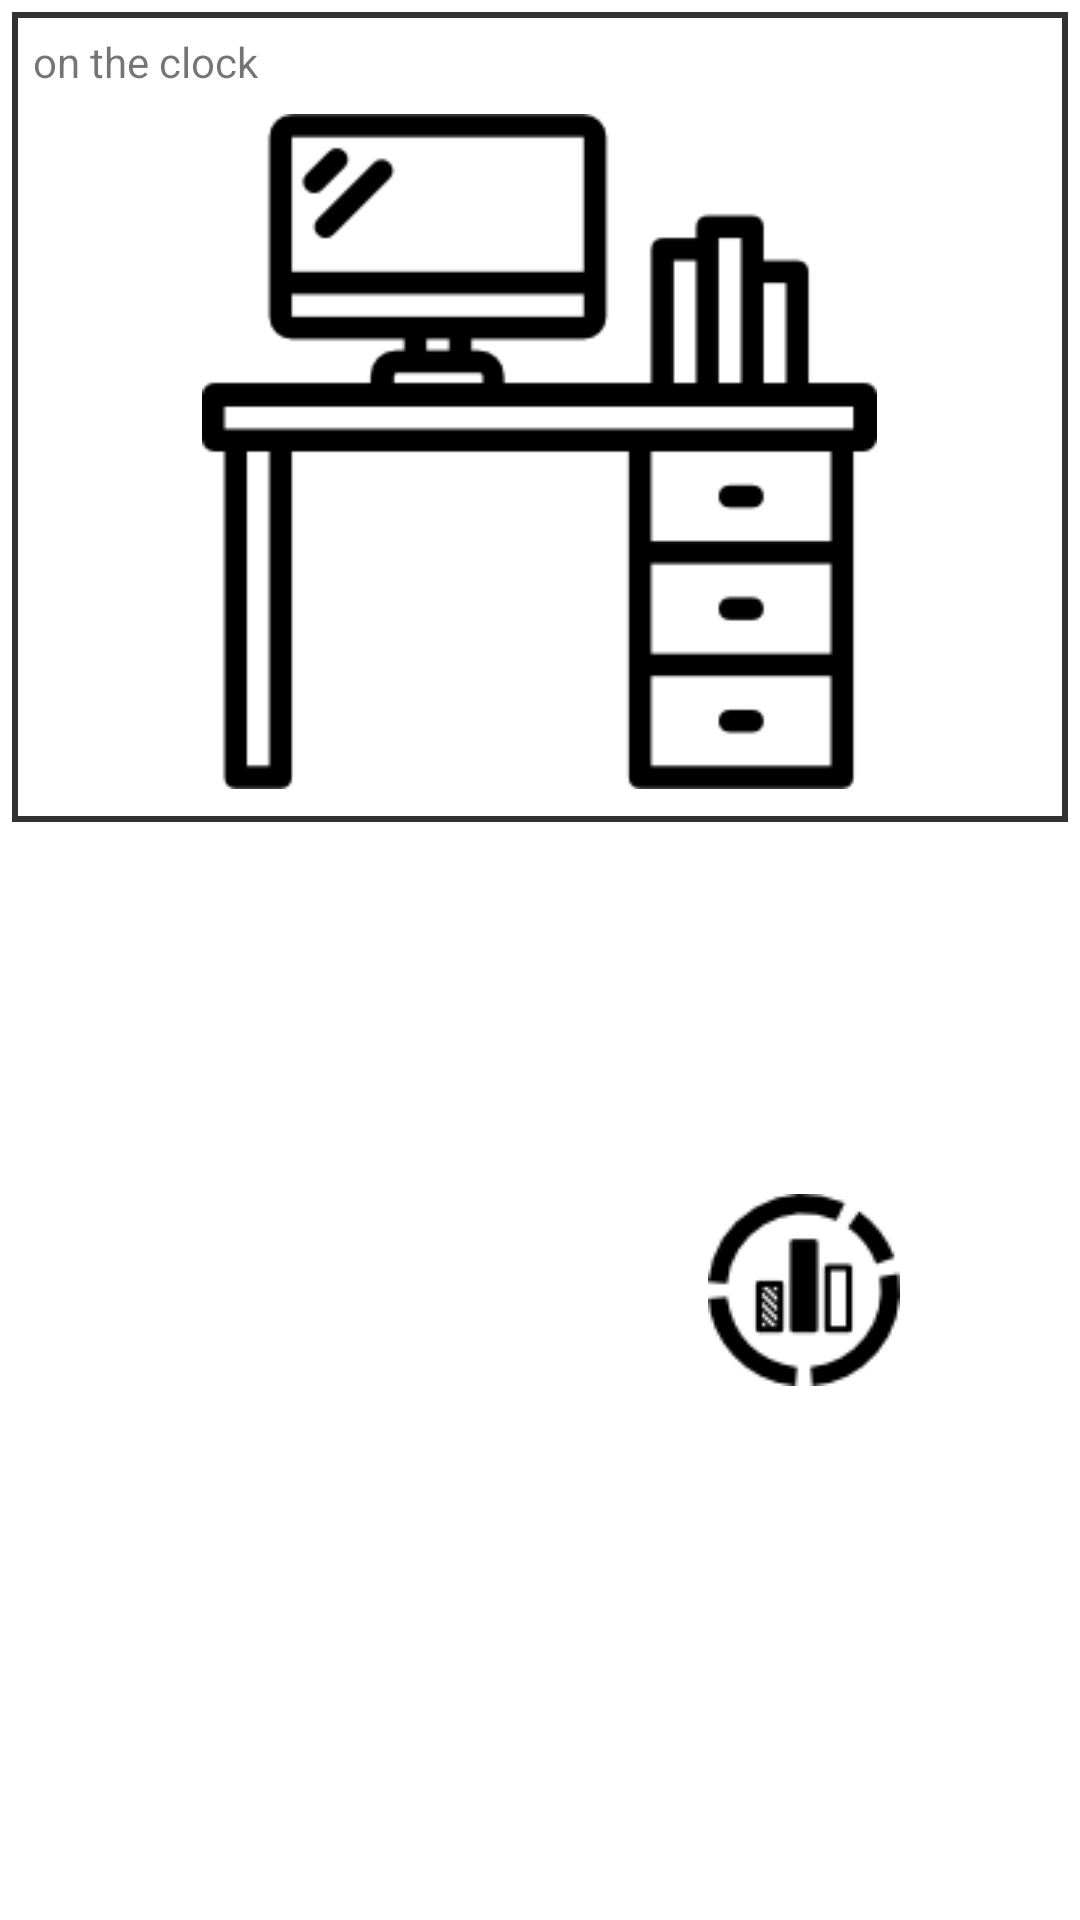

Locate icon controls on the screen. Image size 1080×1920, boxes as [x1=x1, y1=y1, x2=x2, y2=y2].
barchart: [x1=708, y1=1194, x2=900, y2=1386]
